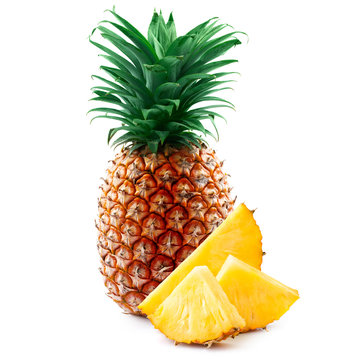Pineapple: (89, 4, 242, 318)
